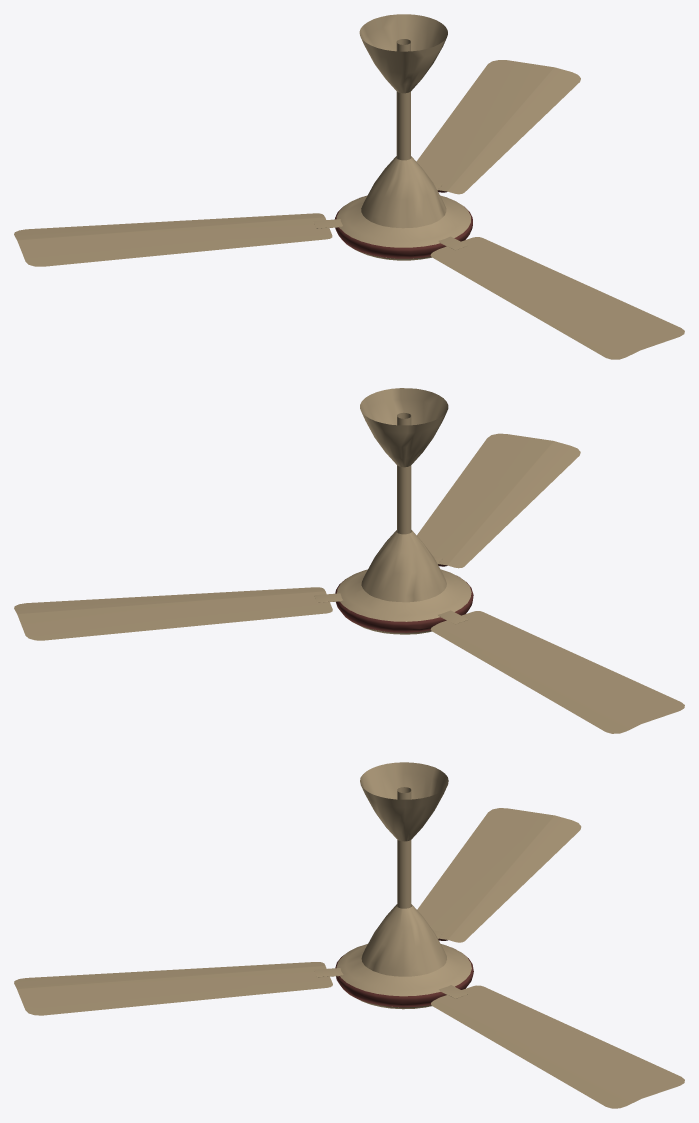
Rendered from ceiling_fan_crompton.glb.
The picture shows the model from 3 angles, top to bottom: view 1: azimuth 30°, elevation 25°; view 2: azimuth 150°, elevation 25°; view 3: azimuth 270°, elevation 25°; orthographic projection.
Parts seen in each view (by area): view 1: Cube.003_Material.001_0, Cube.003_Material.002_0; view 2: Cube.003_Material.001_0, Cube.003_Material.002_0; view 3: Cube.003_Material.001_0, Cube.003_Material.002_0.
Part boxes in pixels (box(x1,y1,x2,y2)): Cube.003_Material.001_0: box(14, 14, 684, 359); Cube.003_Material.002_0: box(334, 190, 472, 258); Cube.003_Material.001_0: box(14, 388, 684, 733); Cube.003_Material.002_0: box(335, 564, 473, 632); Cube.003_Material.001_0: box(14, 762, 684, 1108); Cube.003_Material.002_0: box(335, 938, 473, 1007).
Bounding box in the file's own units: 2 × 0.6566 × 1.91.
